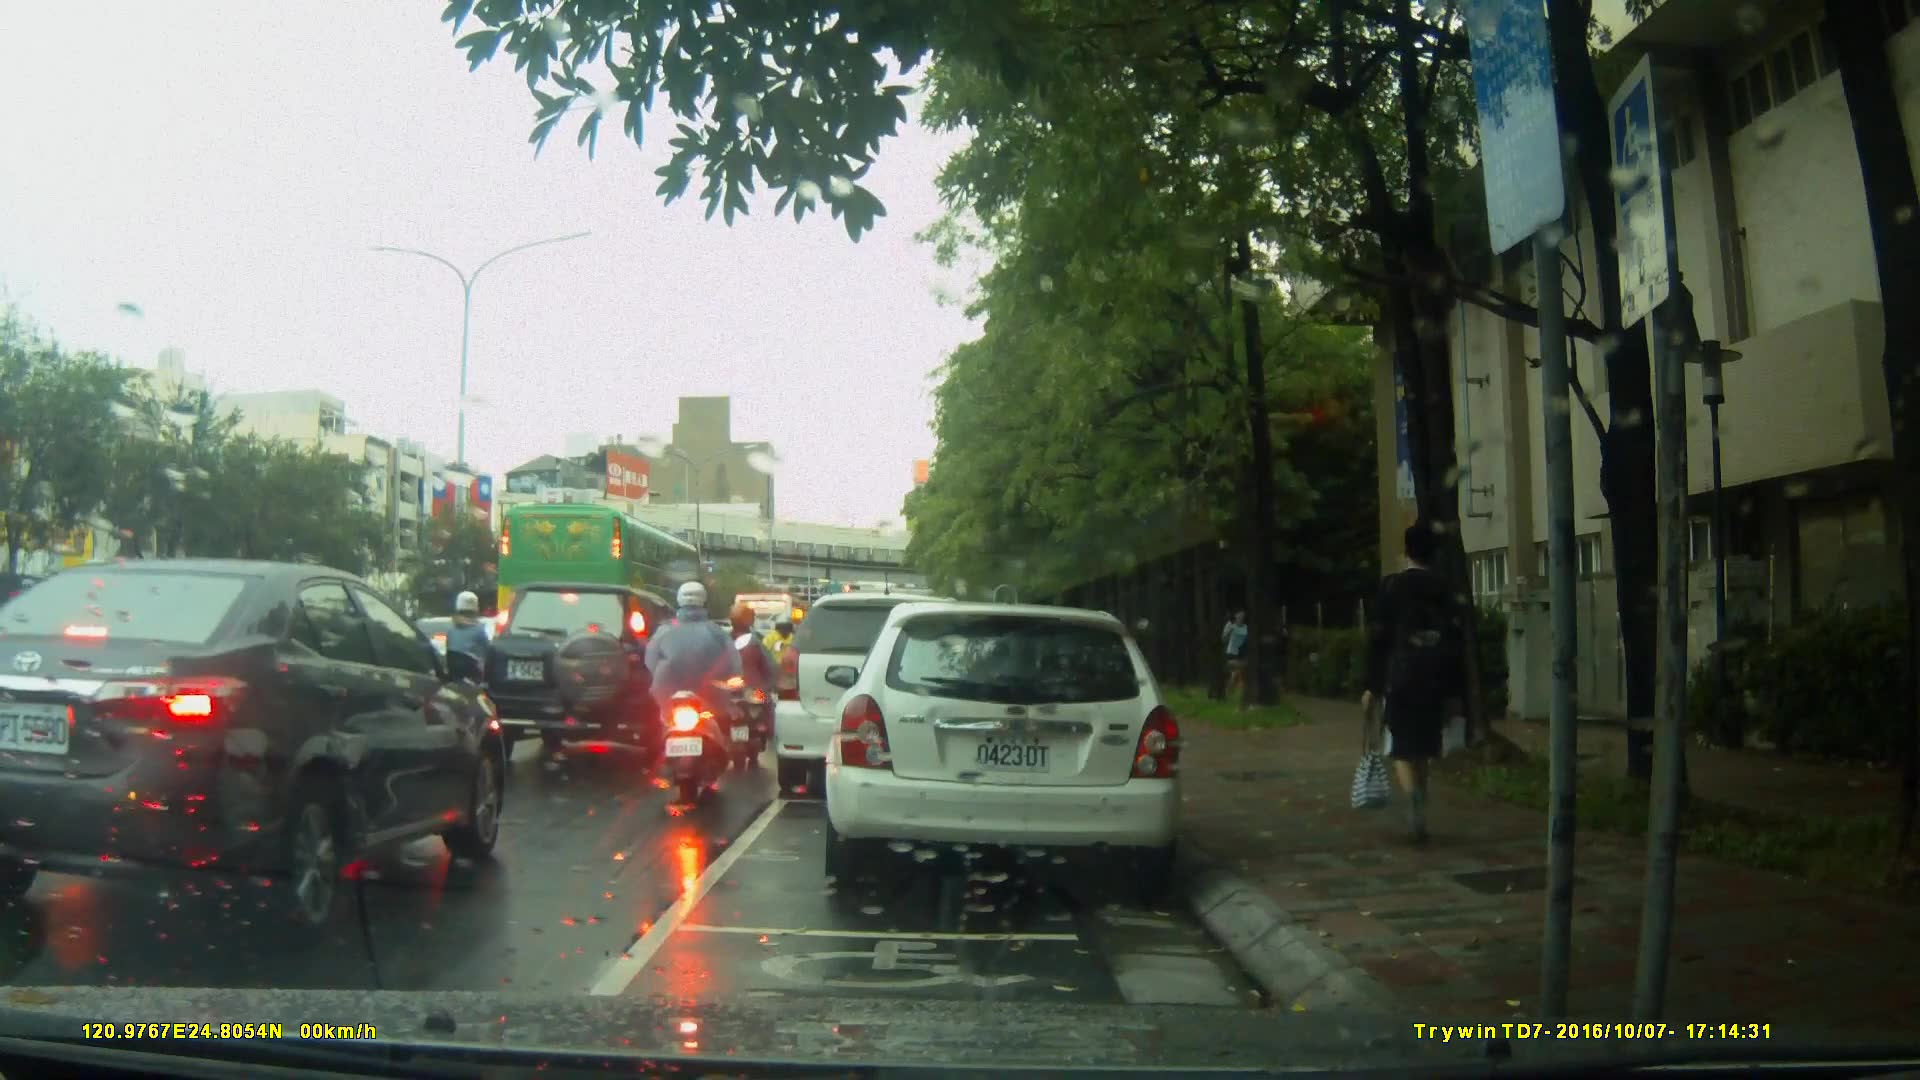pedestrian: (1345, 514, 1477, 853)
rider: (644, 583, 749, 802), (427, 585, 509, 729), (717, 603, 781, 769), (760, 612, 809, 713)
vehicle: (1, 557, 519, 951), (831, 592, 1196, 897), (770, 592, 999, 799), (479, 579, 697, 767), (495, 502, 706, 656)
